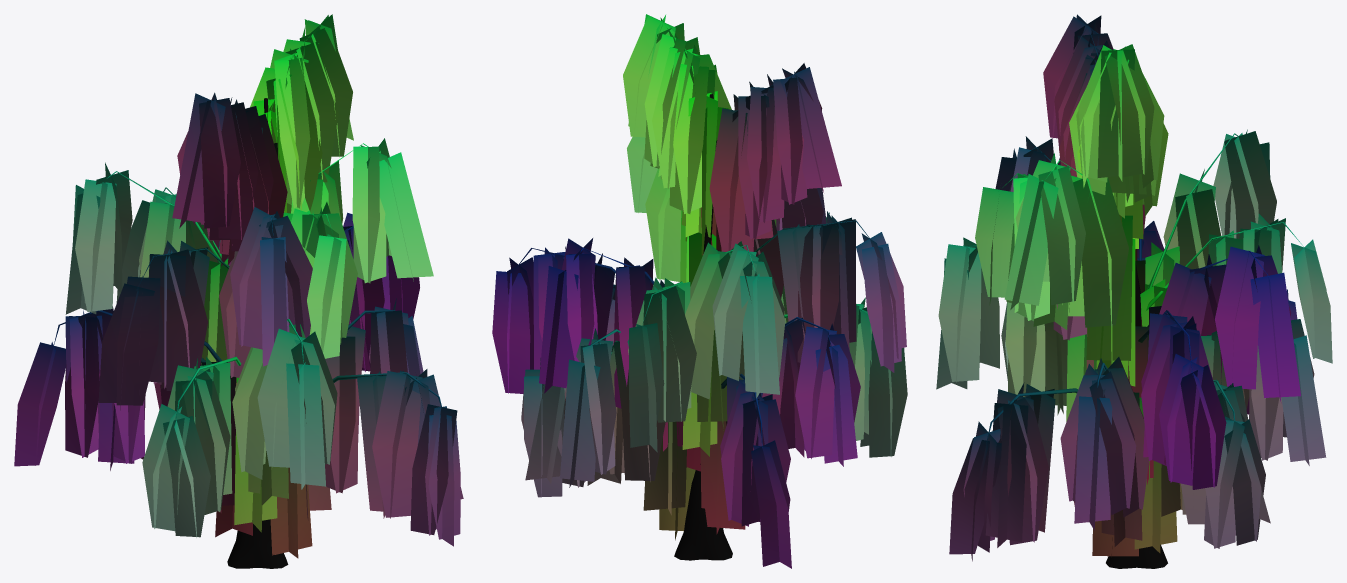
File: Tree_7_8.fbx
The picture shows the model from 3 angles, left to right: view 1: azimuth 30°, elevation 25°; view 2: azimuth 150°, elevation 25°; view 3: azimuth 270°, elevation 25°; orthographic projection. The views are drawn at different scales.
Parts seen in each view (by area): view 1: _8; view 2: _8; view 3: _8.
Part boxes in pixels (left/top/right/bottom): _8: left=14, top=14, right=463, bottom=568; _8: left=492, top=14, right=907, bottom=568; _8: left=936, top=14, right=1332, bottom=568.
Size of the model in its own units: 910 by 1282 by 852.
